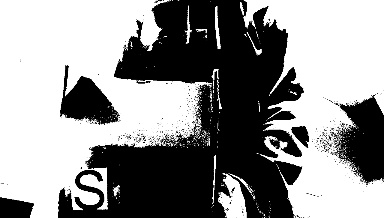S: (68, 168, 108, 210)
